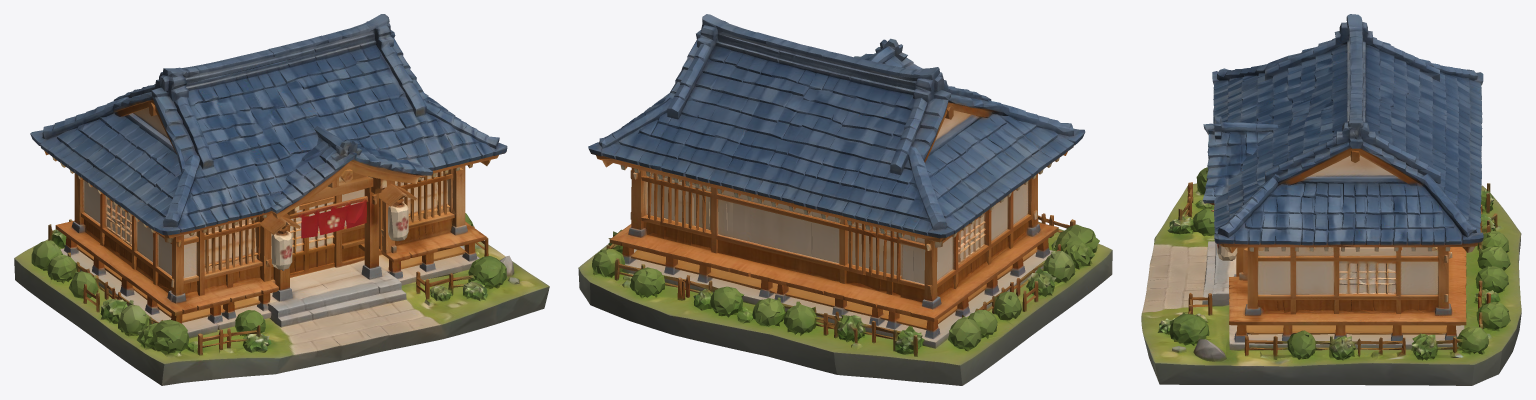
3 views of the same model, side by side, from view 1: azimuth 30°, elevation 25°; view 2: azimuth 150°, elevation 25°; view 3: azimuth 270°, elevation 25° (orthographic). The views are drawn at different scales.
Visible parts, largest first — view 1: model; view 2: model; view 3: model.
Boxes of the visible parts, x1,y1,x2,y2 form: model: [14, 14, 549, 385]; model: [578, 14, 1112, 385]; model: [1141, 14, 1521, 385].
Size of the model in its own units: 1.9 by 1.15 by 1.68.
Materials: 1 (1 with a texture image).
